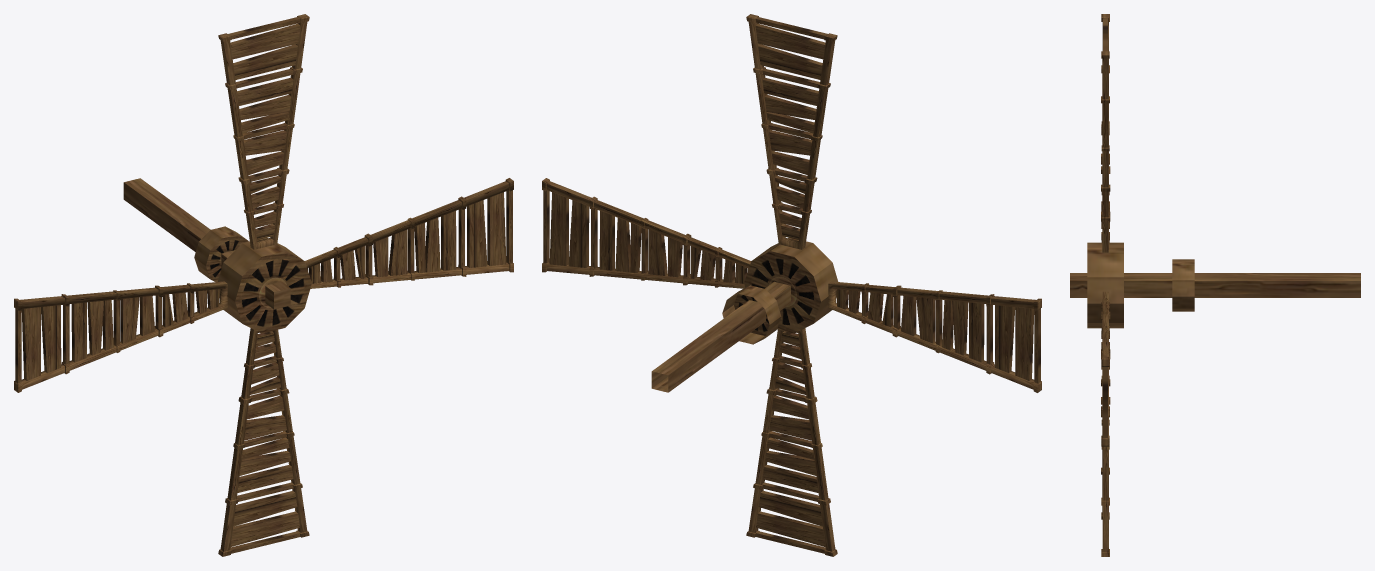
The model's file is fanasty_mod_windmill.fbx.
3 views of the same model, side by side, from view 1: azimuth 30°, elevation 25°; view 2: azimuth 150°, elevation 25°; view 3: azimuth 270°, elevation 25° (orthographic). The views are drawn at different scales.
Visible parts, largest first — view 1: windmill; view 2: windmill; view 3: windmill.
Part boxes in pixels (<box>): windmill: <box>14,14,513,556</box>; windmill: <box>542,14,1041,556</box>; windmill: <box>1070,14,1360,556</box>.
Bounding box in the file's own units: 7.08 × 7.08 × 3.71.
